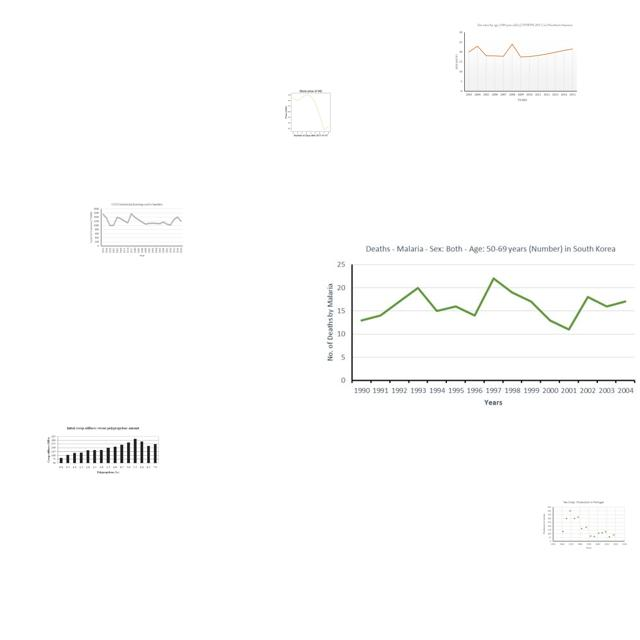Graph: (323, 238, 639, 411), (453, 22, 580, 103), (46, 425, 160, 475), (88, 201, 184, 258), (541, 500, 628, 550), (277, 87, 343, 137)
